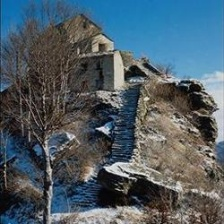neutral: (2, 2, 220, 215)
